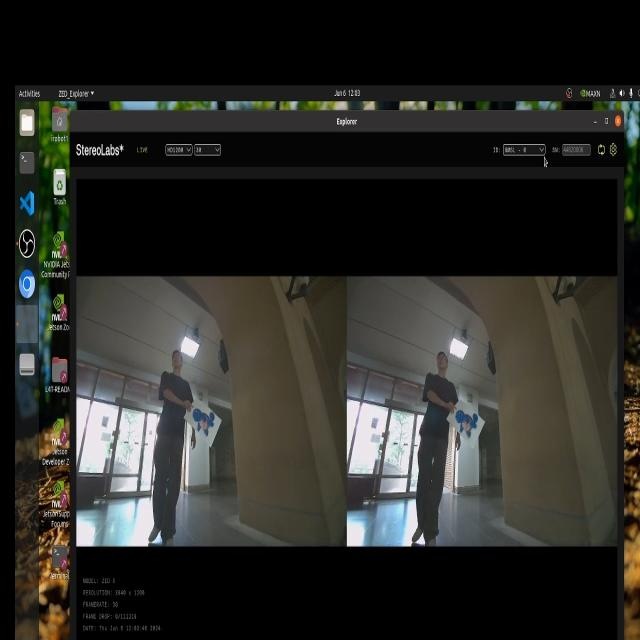blue: (452, 406, 480, 439), (193, 398, 215, 438)
